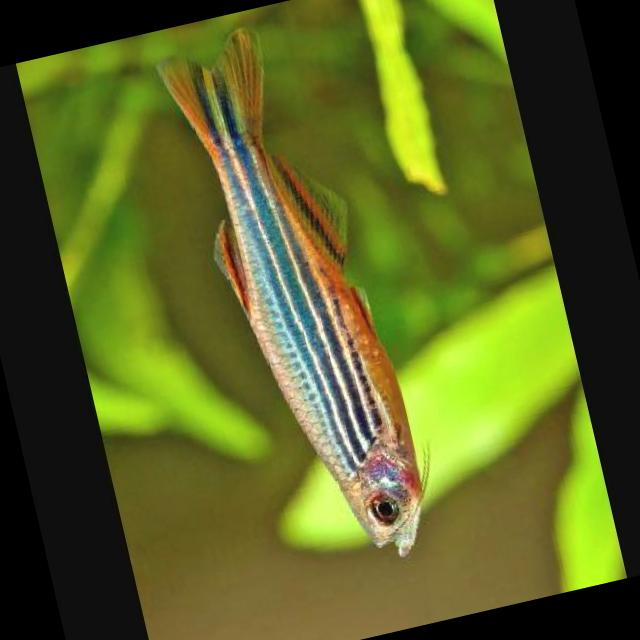ZebraFish: (151, 11, 450, 586)
